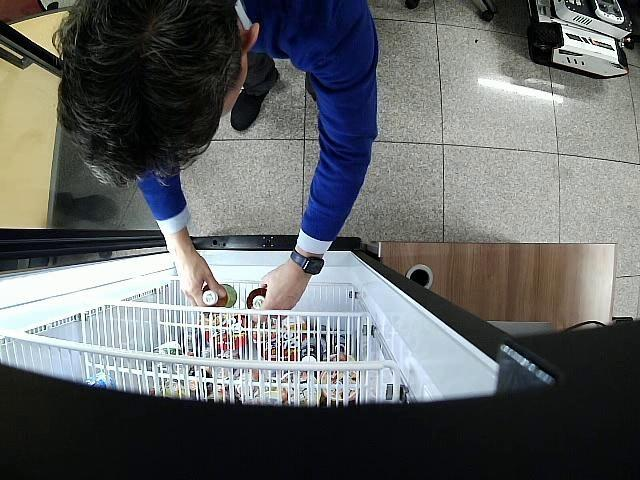19_17cha: (202, 284, 237, 310), (246, 288, 267, 310)
